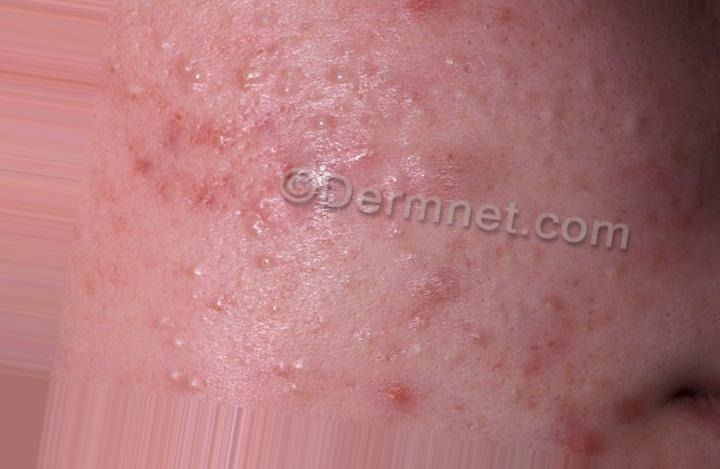Acne: (121, 37, 623, 435)
